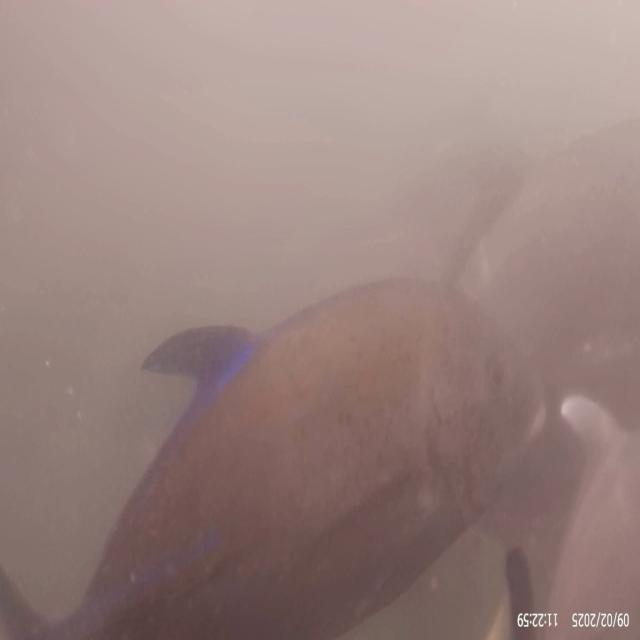ikan: (66, 271, 539, 637)
